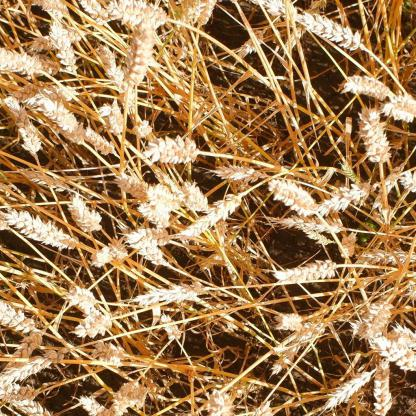whd: (5, 205, 80, 250), (270, 315, 324, 374), (180, 192, 245, 240), (296, 7, 366, 51), (0, 347, 73, 387), (283, 0, 326, 56), (124, 16, 158, 86), (3, 96, 42, 155), (326, 365, 372, 409), (142, 131, 200, 165), (267, 178, 318, 216), (318, 177, 370, 213), (132, 282, 208, 306), (6, 326, 48, 368), (358, 108, 390, 163), (369, 333, 415, 371), (372, 159, 406, 210), (352, 300, 395, 340), (274, 211, 344, 235), (34, 95, 78, 133), (47, 21, 77, 76), (109, 0, 170, 27), (95, 42, 127, 93), (274, 259, 338, 284), (198, 235, 237, 272), (134, 234, 173, 270), (0, 299, 38, 335), (67, 193, 102, 232), (120, 223, 173, 248), (18, 168, 73, 192), (342, 74, 390, 101), (372, 358, 394, 416), (210, 160, 267, 182), (74, 306, 112, 339), (0, 48, 41, 78), (177, 174, 209, 212), (31, 30, 86, 52), (234, 28, 267, 64), (112, 166, 148, 198), (110, 380, 140, 416), (97, 99, 126, 136), (384, 90, 415, 124), (341, 163, 371, 197), (136, 199, 171, 228), (252, 0, 300, 21), (85, 125, 116, 156), (62, 282, 97, 309), (10, 81, 52, 102), (362, 246, 416, 262), (0, 384, 40, 405), (205, 388, 235, 416), (92, 338, 124, 364), (78, 0, 110, 25), (11, 397, 52, 416), (30, 0, 70, 19), (147, 183, 176, 209), (78, 394, 112, 416), (174, 0, 206, 23), (390, 321, 416, 349), (160, 173, 184, 200), (276, 309, 304, 332), (339, 228, 358, 259), (104, 236, 128, 260), (159, 314, 181, 340), (302, 229, 335, 245), (198, 0, 216, 28), (90, 245, 113, 266), (62, 125, 88, 143), (51, 86, 78, 101), (250, 402, 276, 416), (40, 58, 60, 76), (120, 85, 135, 107), (134, 120, 152, 138), (136, 386, 150, 409), (400, 170, 414, 192), (216, 219, 230, 236), (175, 46, 189, 60), (0, 212, 10, 230)
